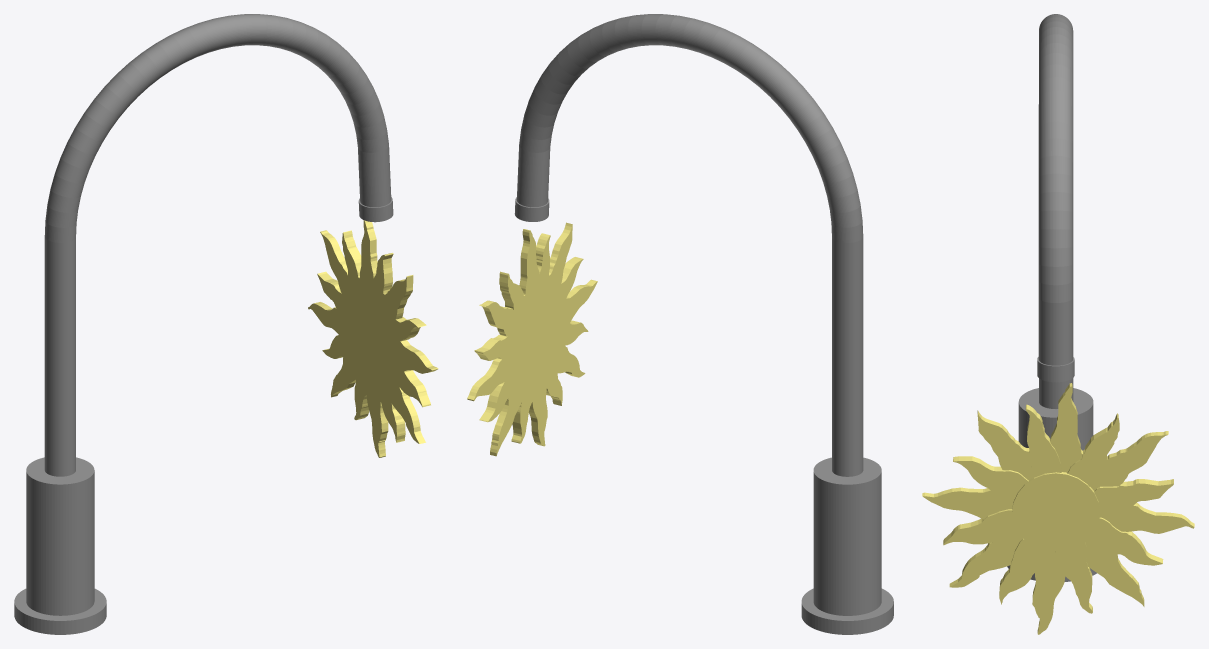
File: temperature, hot.dae
3 renders of one model, left to right at view 1: azimuth 30°, elevation 25°; view 2: azimuth 150°, elevation 25°; view 3: azimuth 270°, elevation 25°, orthographic. The views are drawn at different scales.
Visible parts, largest first — view 1: group_1 (×3), group_0; view 2: group_1 (×3), group_0; view 3: group_0, group_1 (×3).
Boxes of the visible parts, x1,y1,x2,y2 form: group_1 (×3): [14, 14, 391, 634]; group_0: [308, 220, 438, 457]; group_1 (×3): [516, 14, 893, 634]; group_0: [467, 222, 597, 456]; group_0: [922, 383, 1194, 634]; group_1 (×3): [1018, 14, 1093, 450].
Bounding box in the file's own units: 10.64 × 6.18 × 15.3.
2 materials, 2 textured.
